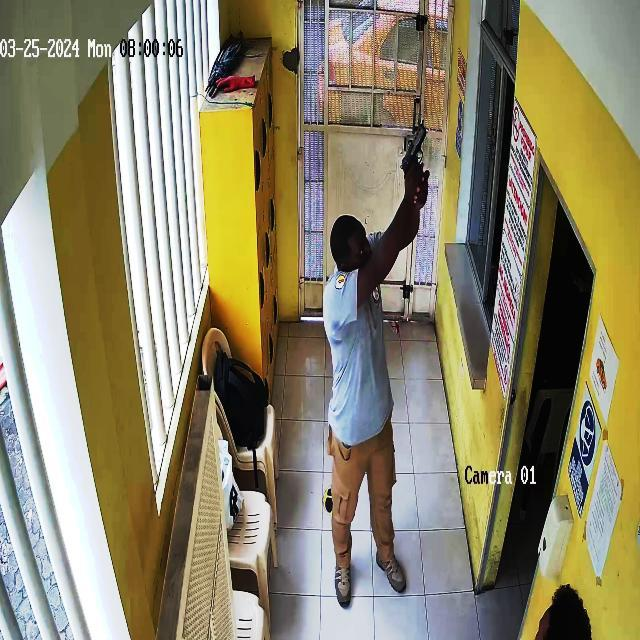Gun: (397, 106, 441, 191)
